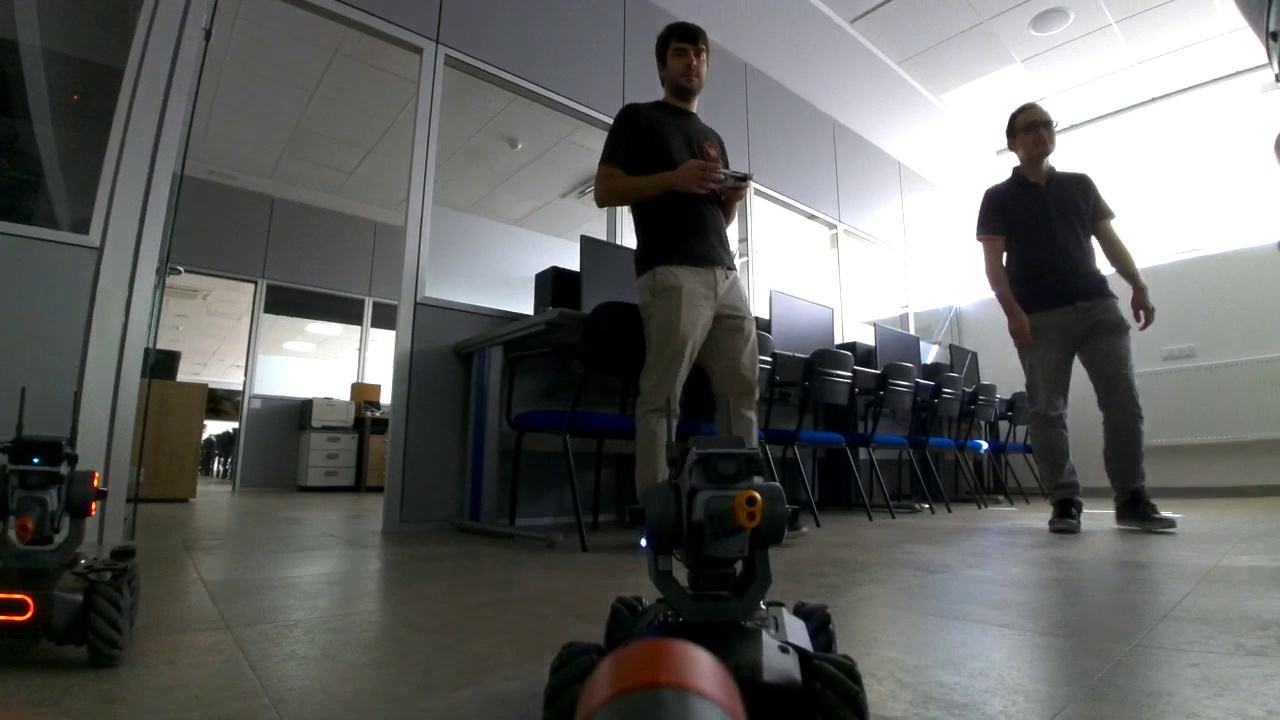robot: (548, 430, 869, 720), (3, 433, 137, 670)
